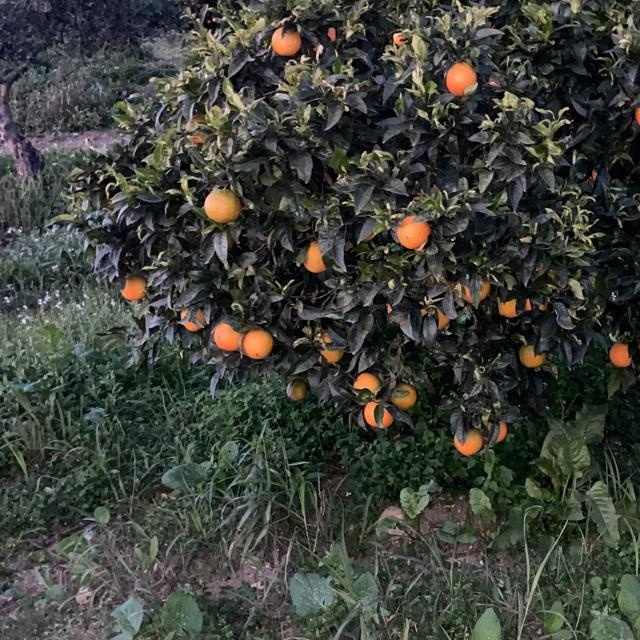orange: (204, 183, 242, 223), (394, 212, 432, 250), (180, 112, 222, 146), (444, 57, 478, 97), (303, 236, 329, 274), (271, 24, 301, 56), (243, 327, 273, 359), (213, 320, 243, 350), (482, 414, 510, 446), (453, 425, 483, 453), (120, 272, 148, 302), (364, 400, 392, 428), (313, 334, 341, 362), (179, 305, 209, 331), (609, 339, 635, 367), (464, 275, 490, 301), (519, 343, 547, 367), (391, 383, 417, 407), (354, 369, 380, 393), (425, 305, 447, 331), (315, 26, 337, 48), (287, 378, 307, 400), (498, 297, 518, 317), (527, 295, 549, 313), (393, 29, 413, 47), (587, 163, 605, 183), (633, 98, 640, 130), (488, 72, 504, 86), (443, 278, 457, 292), (222, 233, 234, 249), (383, 302, 395, 316), (635, 361, 640, 381)
